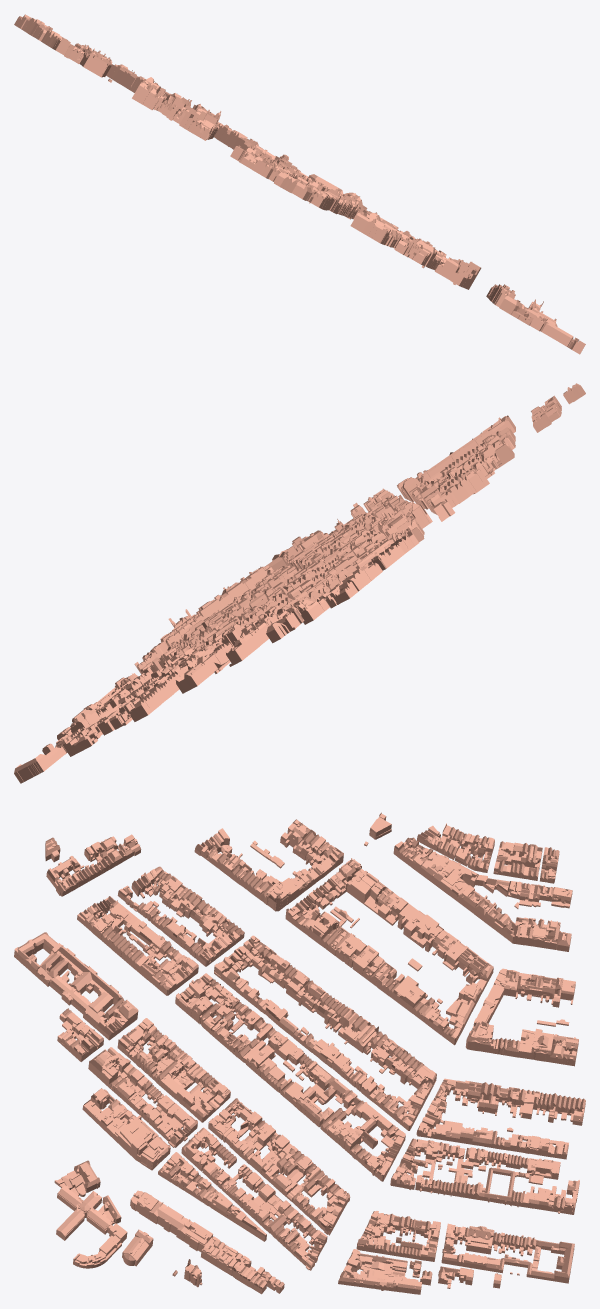
3 views of the same model, one above another, from view 1: azimuth 30°, elevation 25°; view 2: azimuth 150°, elevation 25°; view 3: azimuth 270°, elevation 25° (orthographic). The views are drawn at different scales.
Bounding box in the file's own units: 1.7e+07 × 1.31e+07 × 2.19e+07.
